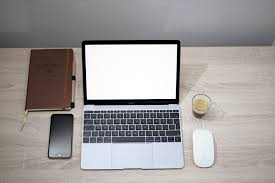mobil: (47, 111, 73, 159)
